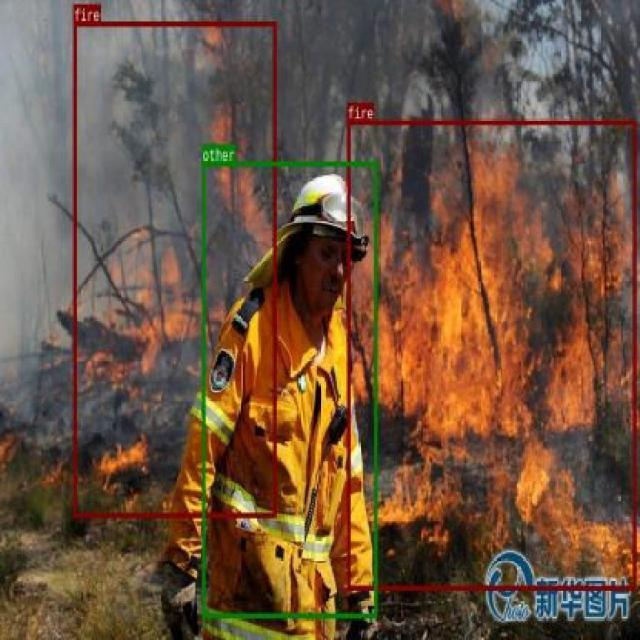Fire: (347, 119, 635, 590), (72, 20, 276, 517)
